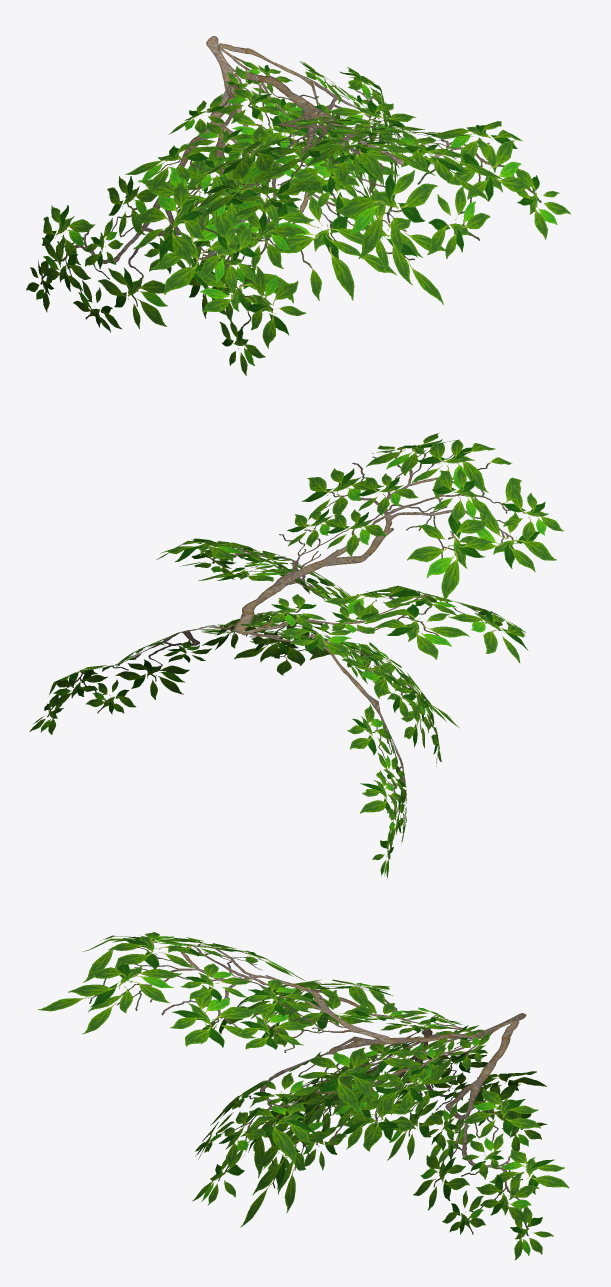
The model's file is SingleBranchBaseMesh_grouped.FBX.
3 views of the same model, one above another, from view 1: azimuth 30°, elevation 25°; view 2: azimuth 150°, elevation 25°; view 3: azimuth 270°, elevation 25° (orthographic). The views are drawn at different scales.
Parts seen in each view (by area): view 1: Object233; view 2: Object233; view 3: Object233.
Boxes of the visible parts, left/top/right/bottom form: Object233: left=26, top=36, right=570, bottom=375; Object233: left=29, top=432, right=563, bottom=878; Object233: left=38, top=932, right=568, bottom=1260.
Size of the model in its own units: 154 by 103 by 186.
